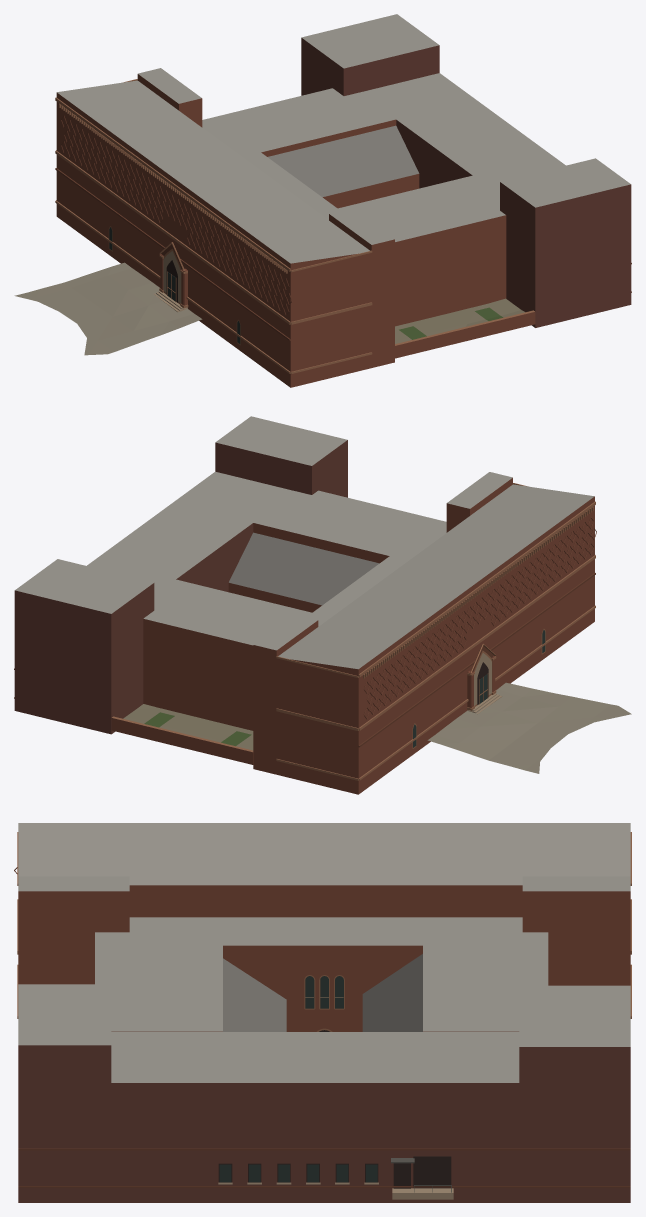
Rendered from site.glb.
3 renders of one model, top to bottom at view 1: azimuth 30°, elevation 25°; view 2: azimuth 150°, elevation 25°; view 3: azimuth 270°, elevation 25°, orthographic. The views are drawn at different scales.
Parts seen in each view (by area): view 1: roof-16751515, museum-approaches; view 2: roof-16751515, museum-approaches; view 3: roof-16751515.
Boxes of the visible parts, box(x1,y1,x2,y2) form: roof-16751515: box(55, 14, 631, 387); museum-approaches: box(14, 262, 524, 355); roof-16751515: box(14, 416, 596, 794); museum-approaches: box(123, 682, 631, 773); roof-16751515: box(14, 823, 631, 1202).
Bounding box in the file's own units: 65.46 × 16.88 × 57.09.
